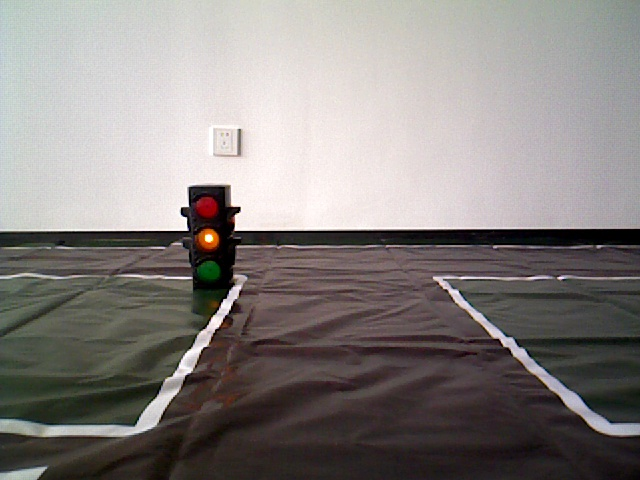yellow: (188, 189, 233, 294)
